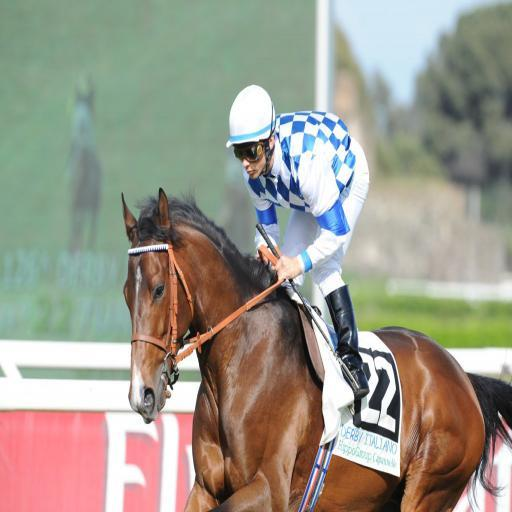Horse: (122, 186, 512, 511)
